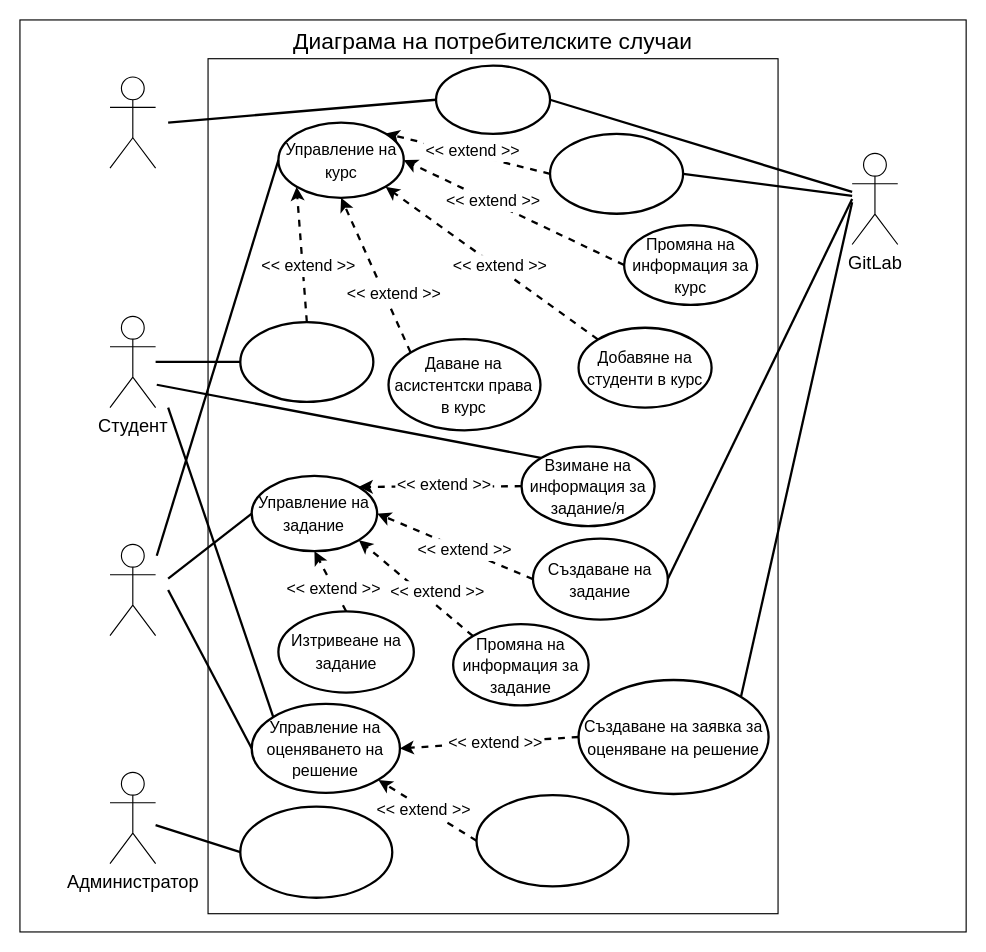
Some shapes in this 986 by 952 pixel diagram are drawn without their labels. The shapes that lost their labels are listed below. From the top down, each one's box as (x1, y1, x2, y2) in pixels, then its label:
(434, 64, 551, 135): Вход в системата
(109, 76, 156, 168): Гост
(548, 132, 684, 214): Създаване на курс
(239, 320, 374, 402): Взимане на информация за курс/ове
(109, 543, 156, 636): Преподавател
(239, 805, 393, 898): Даване на учителски права в системата
(475, 793, 629, 887): Взимане на информация за решение/я
